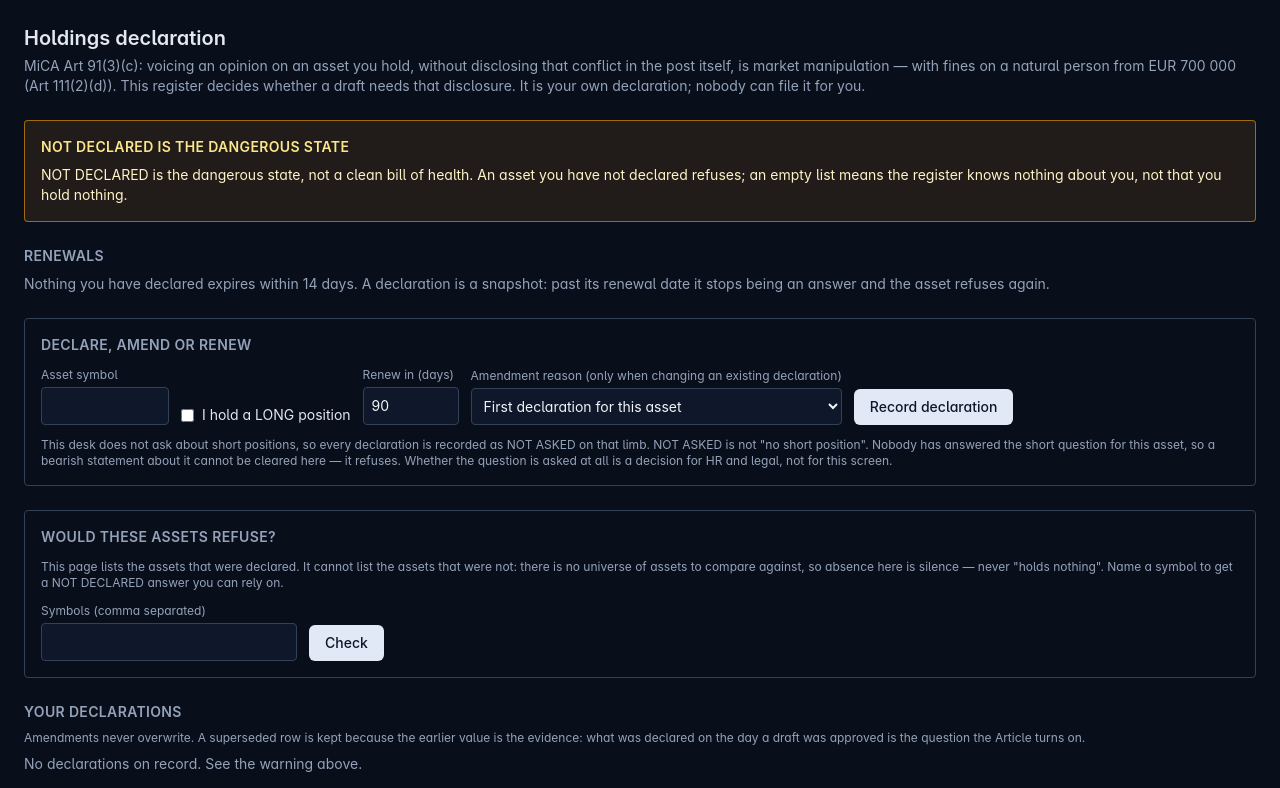
Test: declaring goes through the governed action › surfaces the refusal code rather than a generic failure
This screenshot has width=1280, height=788.
Check: the element with test id "holdings-declare" is shown, box left=24, top=318, right=1256, bottom=486
Type "SOL" into the field labelled "Asset symbol" at (105, 406), box left=41, top=387, right=169, bottom=425
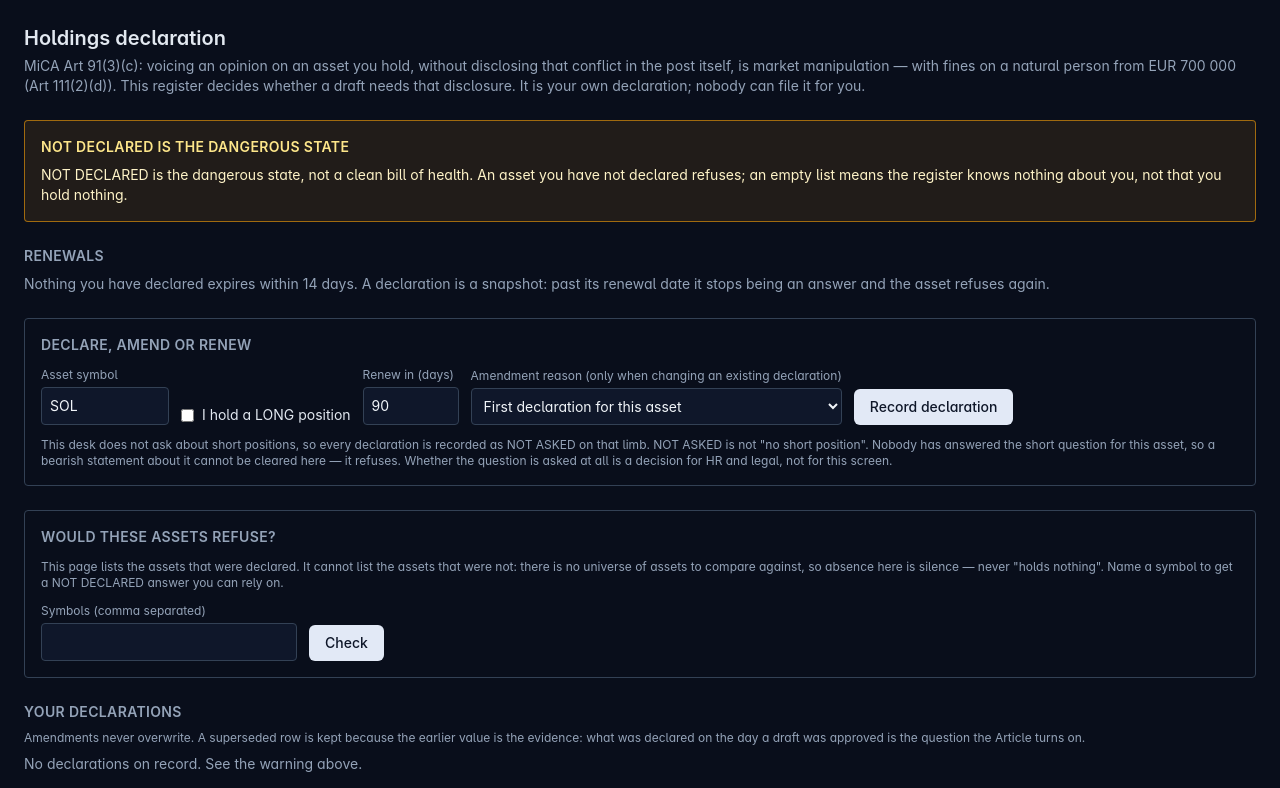
Click the button "Record declaration" at (934, 407), box left=854, top=389, right=1013, bottom=425
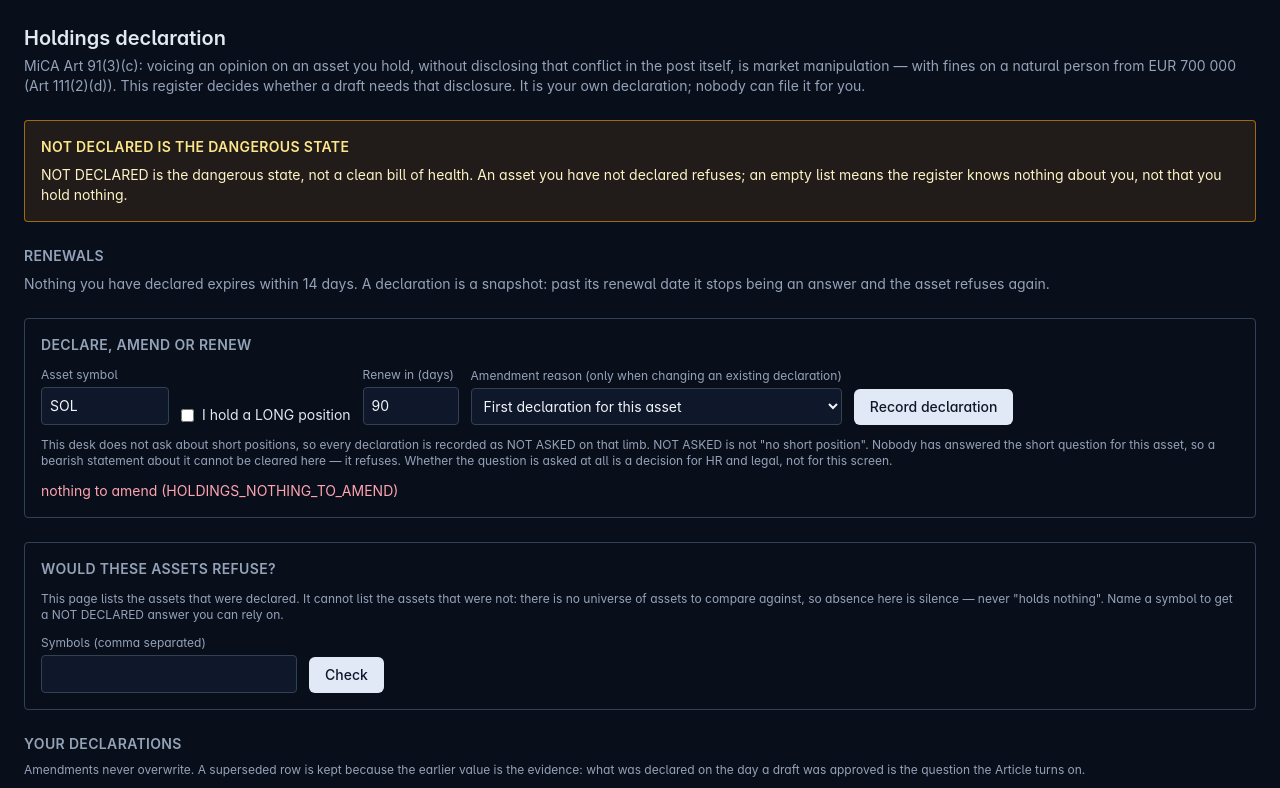
Check: the message with test id "holdings-feedback" shows "HOLDINGS_NOTHING_TO_AMEND", box left=41, top=482, right=398, bottom=499
